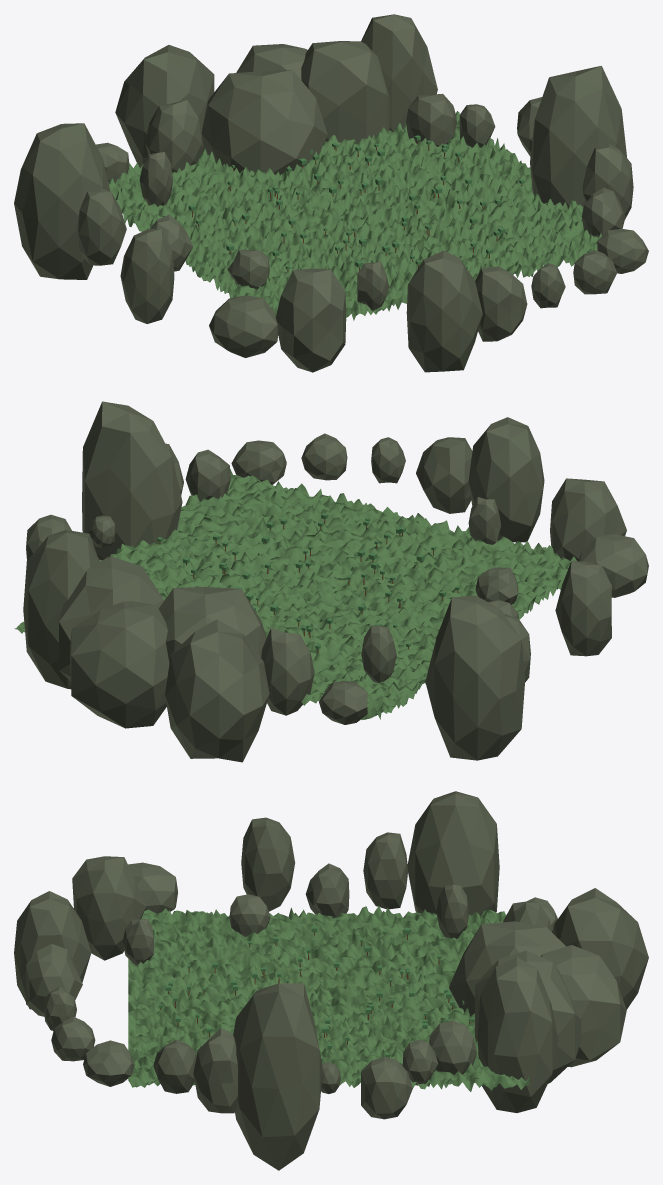
The model's file is minecraft_terrain.gltf.
3 renders of one model, top to bottom at view 1: azimuth 30°, elevation 25°; view 2: azimuth 150°, elevation 25°; view 3: azimuth 270°, elevation 25°, orthographic. The views are drawn at different scales.
Size of the model in its own units: 343 by 118 by 380.
